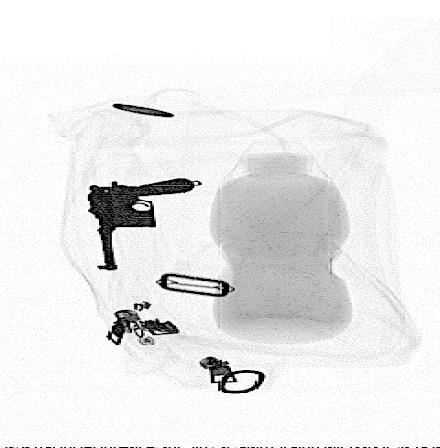Gun: (84, 177, 197, 270)
